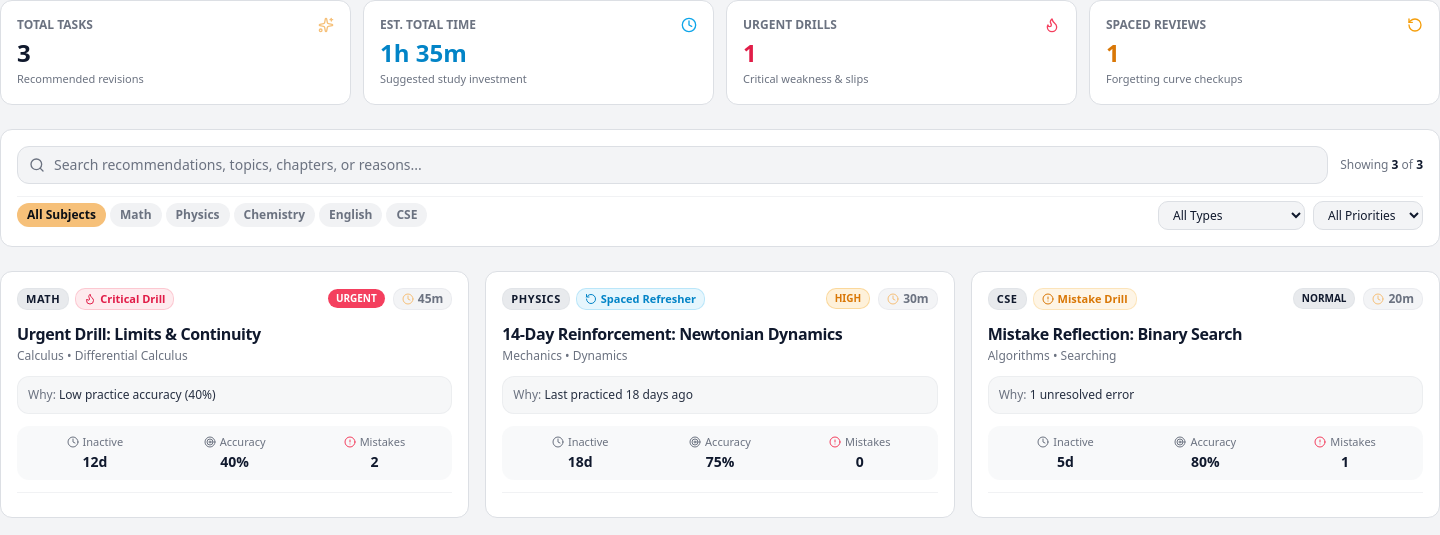
Scenario: RevisionRecommendationsList › filters recommendations by type select dropdown
Select "Critical Drills" in the dropdown named "Filter by recommendation type" at x=1232, y=215, box [1158,200,1305,230]
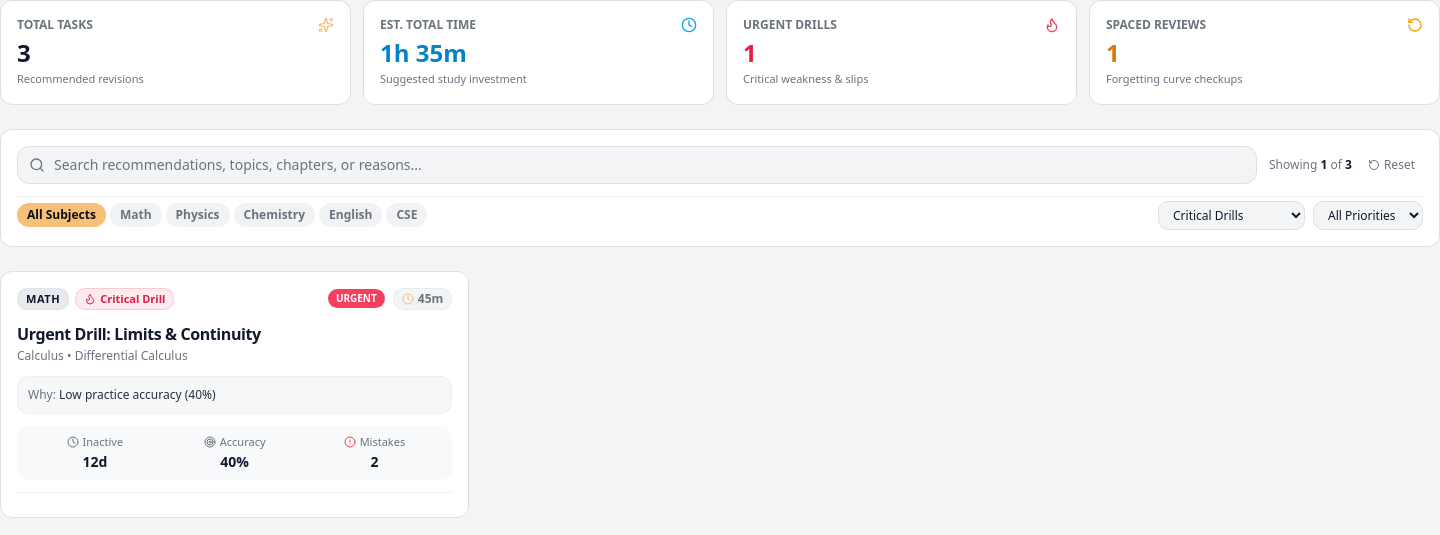
Expected: the heading "Urgent Drill: Limits & Continuity" is shown, [17,323,261,345]
Expected: the heading "14-Day Reinforcement: Newtonian Dynamics" is gone
